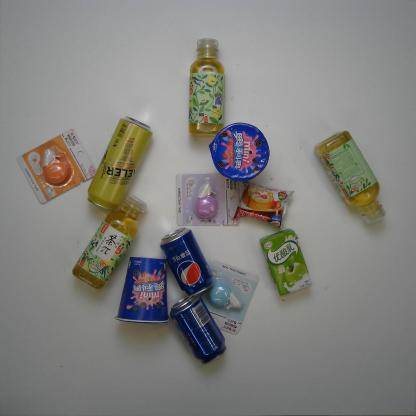Alcohol: (84, 114, 154, 213)
Dessert: (206, 120, 273, 184), (114, 256, 172, 325), (230, 178, 297, 231)
Drink: (69, 191, 149, 292), (310, 127, 388, 228), (167, 292, 229, 367), (186, 35, 227, 140), (159, 225, 216, 299)
Milk: (255, 226, 317, 299)
Stationery: (14, 127, 98, 206), (199, 256, 261, 338), (171, 170, 244, 228)
